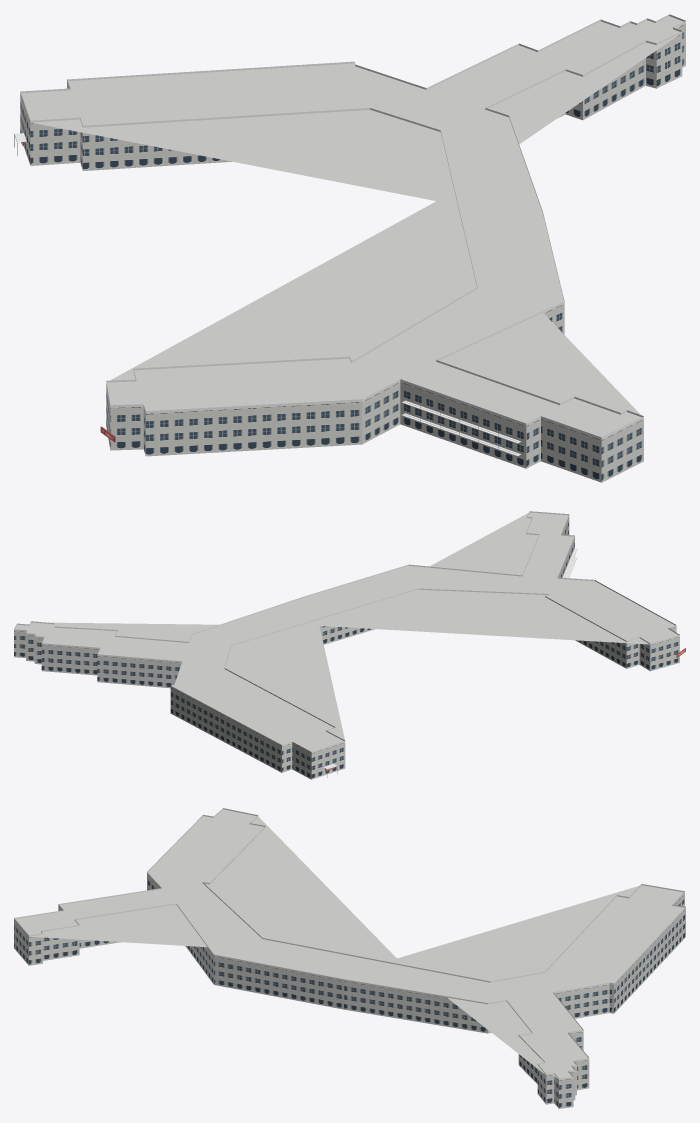
The model's file is lacabana_ring.glb.
The picture shows the model from 3 angles, top to bottom: view 1: azimuth 30°, elevation 25°; view 2: azimuth 150°, elevation 25°; view 3: azimuth 270°, elevation 25°; orthographic projection. The views are drawn at different scales.
Visible parts, largest first — view 1: lacabana_ring_lod0; view 2: lacabana_ring_lod0; view 3: lacabana_ring_lod0.
Boxes of the visible parts, box(x1,y1,x2,y2) form: lacabana_ring_lod0: box(14, 14, 685, 482); lacabana_ring_lod0: box(14, 511, 685, 779); lacabana_ring_lod0: box(14, 808, 685, 1108).
Size of what is drawn, in the model's own units: 214 by 11.15 by 224.
6 materials, 3 textured.
